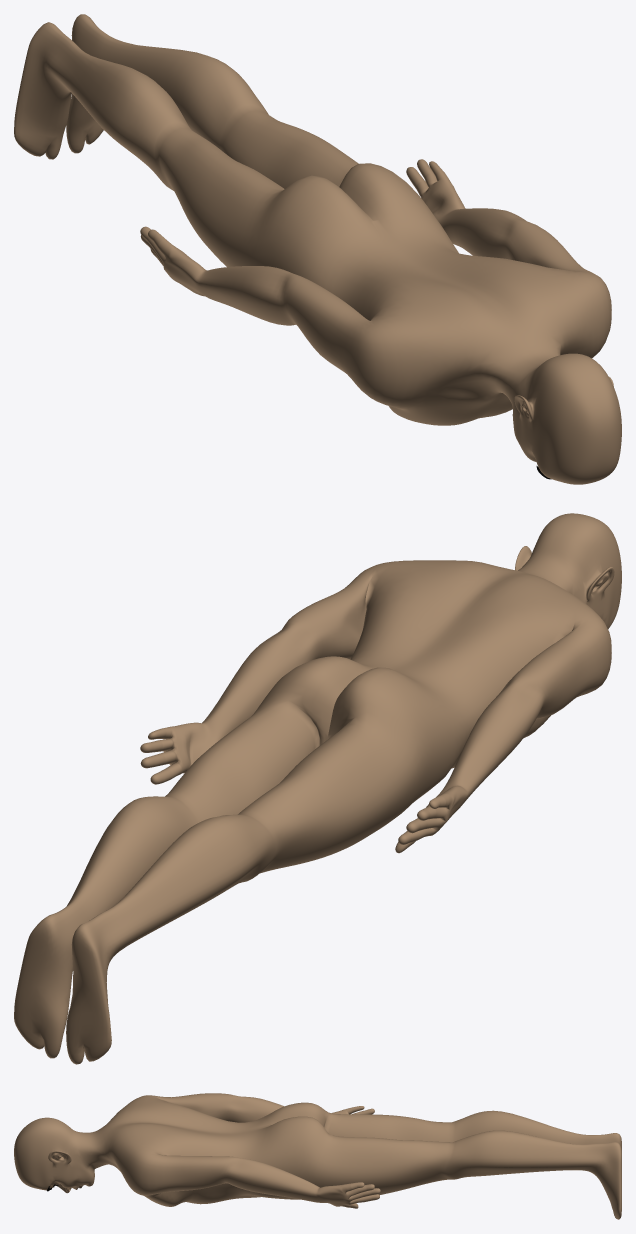
The model's file is base-male-nude.obj.
3 renders of one model, top to bottom at view 1: azimuth 30°, elevation 25°; view 2: azimuth 150°, elevation 25°; view 3: azimuth 270°, elevation 25°, orthographic. The views are drawn at different scales.
Visible parts, largest first — view 1: male_male_skin; view 2: male_male_skin; view 3: male_male_skin.
Boxes of the visible parts, bbox=[...] form: male_male_skin: bbox=[14, 14, 621, 484]; male_male_skin: bbox=[14, 513, 621, 1064]; male_male_skin: bbox=[14, 1093, 621, 1219].
Size of the model in its own units: 3.69 by 2.29 by 12.04.
